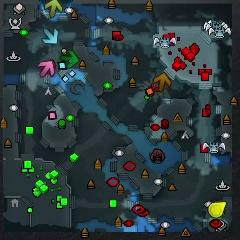p4: (207, 201, 226, 218)
x1: (37, 59, 56, 78)
x2: (45, 0, 64, 18)
x3: (42, 28, 60, 45)
x4: (60, 50, 79, 68)
x5: (154, 73, 172, 91)
